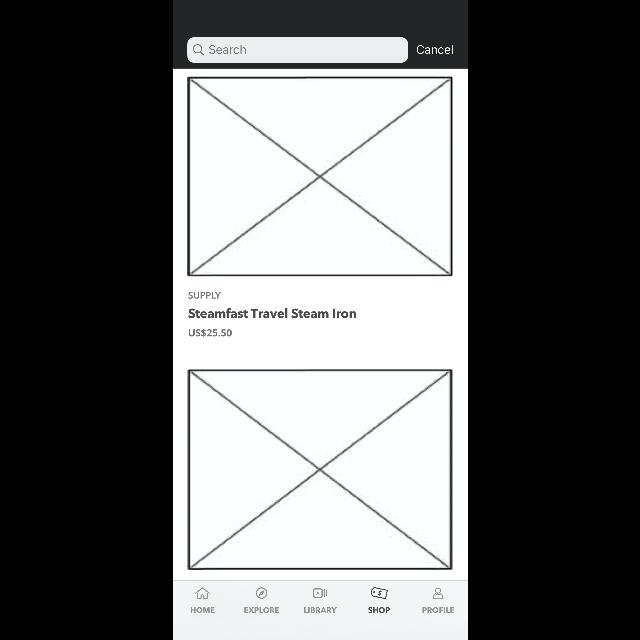icon: (370, 587, 388, 599), (194, 587, 210, 599), (312, 588, 328, 598), (192, 44, 204, 56), (432, 588, 443, 598), (256, 588, 266, 598)
image: (187, 369, 453, 571), (186, 77, 454, 277)
input: (186, 37, 408, 63)
text: (188, 308, 356, 318), (416, 45, 452, 55), (188, 329, 232, 337), (208, 46, 246, 54), (244, 607, 278, 613), (304, 607, 336, 613), (422, 607, 454, 613), (188, 292, 220, 298), (190, 607, 214, 613), (368, 607, 390, 613)
